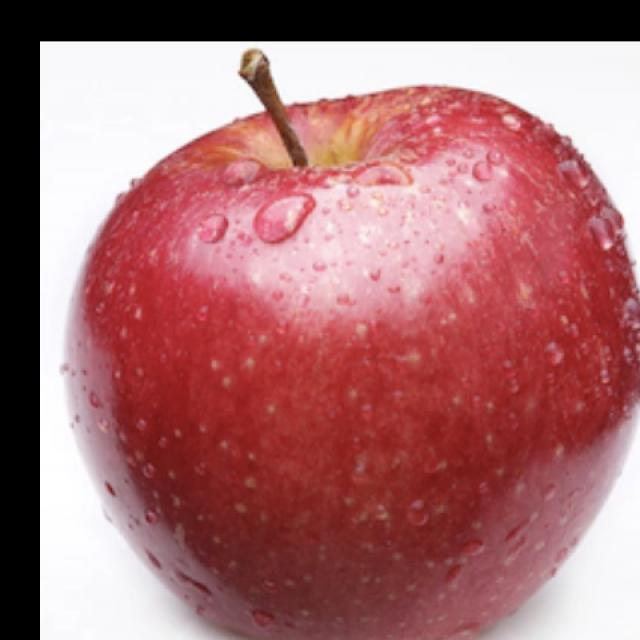Fresh Apple: (68, 91, 640, 639)
